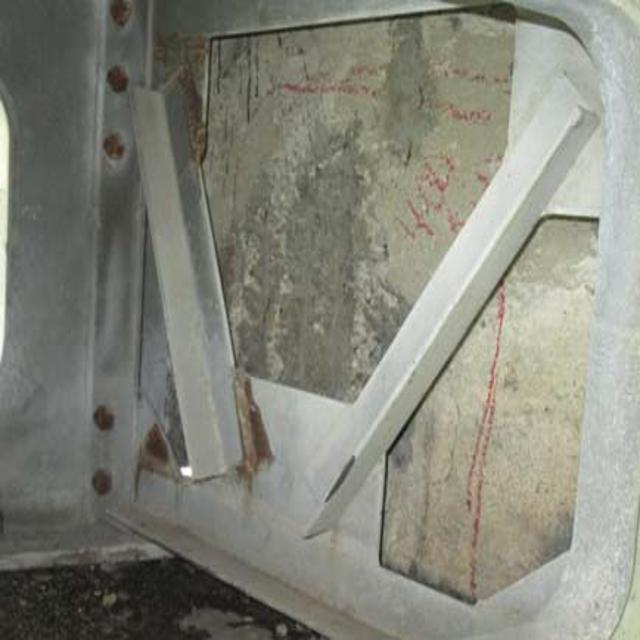corrosion: (77, 394, 184, 523), (93, 6, 144, 190)
